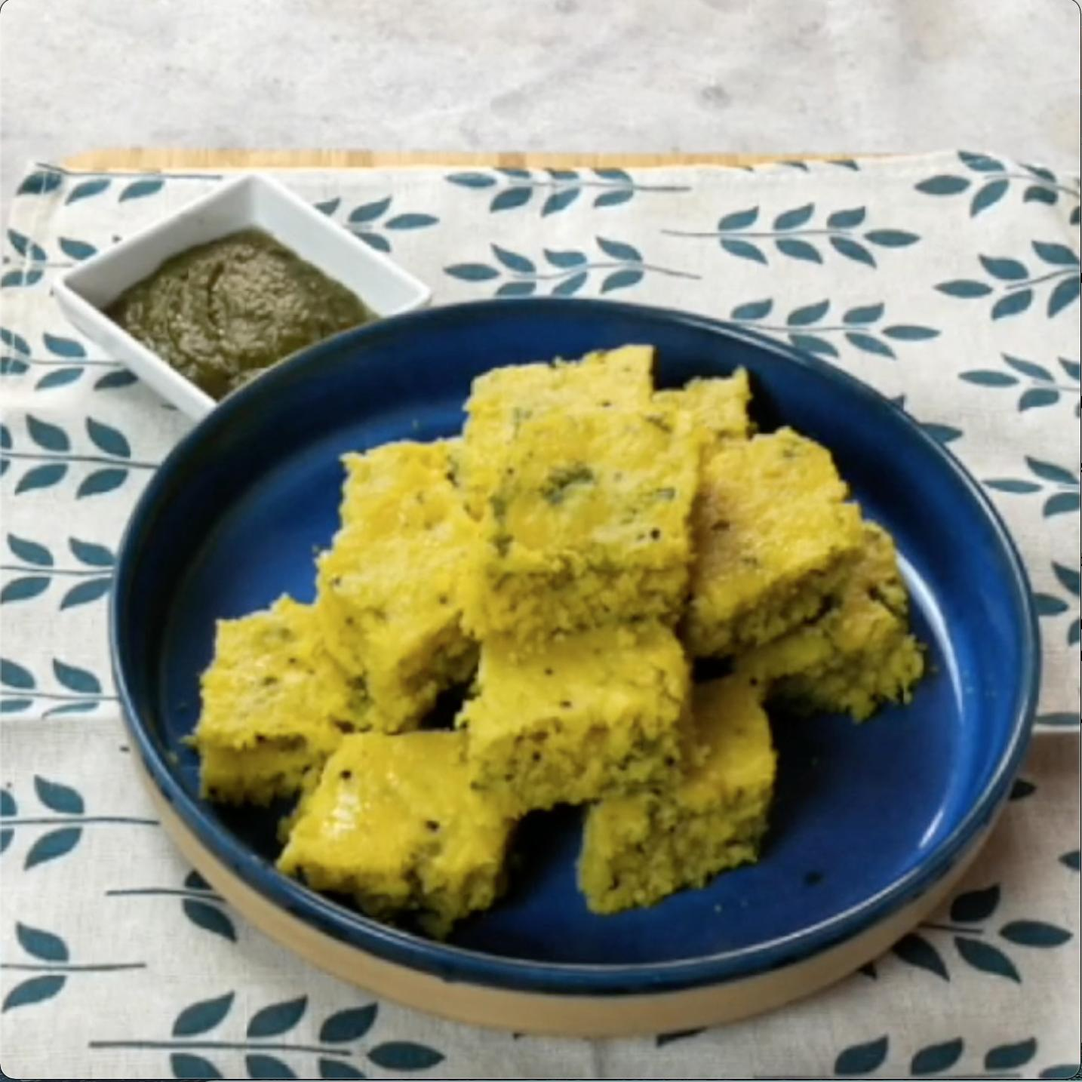dhokla: (193, 279, 933, 946)
